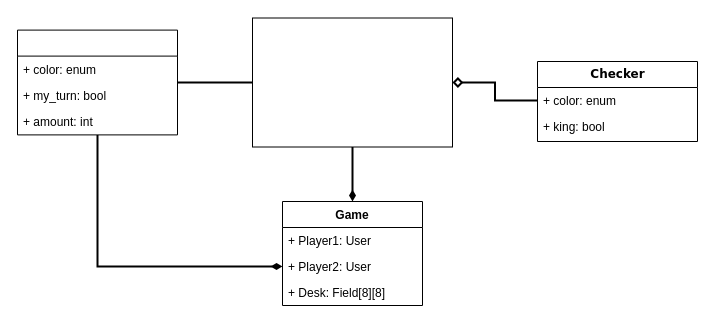
This 715x325 diagram has some shape labels left out. Here are the shapes that lost their labels. From the top down, the box of each, then its label:
(16, 29, 178, 135): User
(252, 17, 452, 147): Field + char: value + Checker: *ptr + bool: is_chec + step(): int + king(): int
